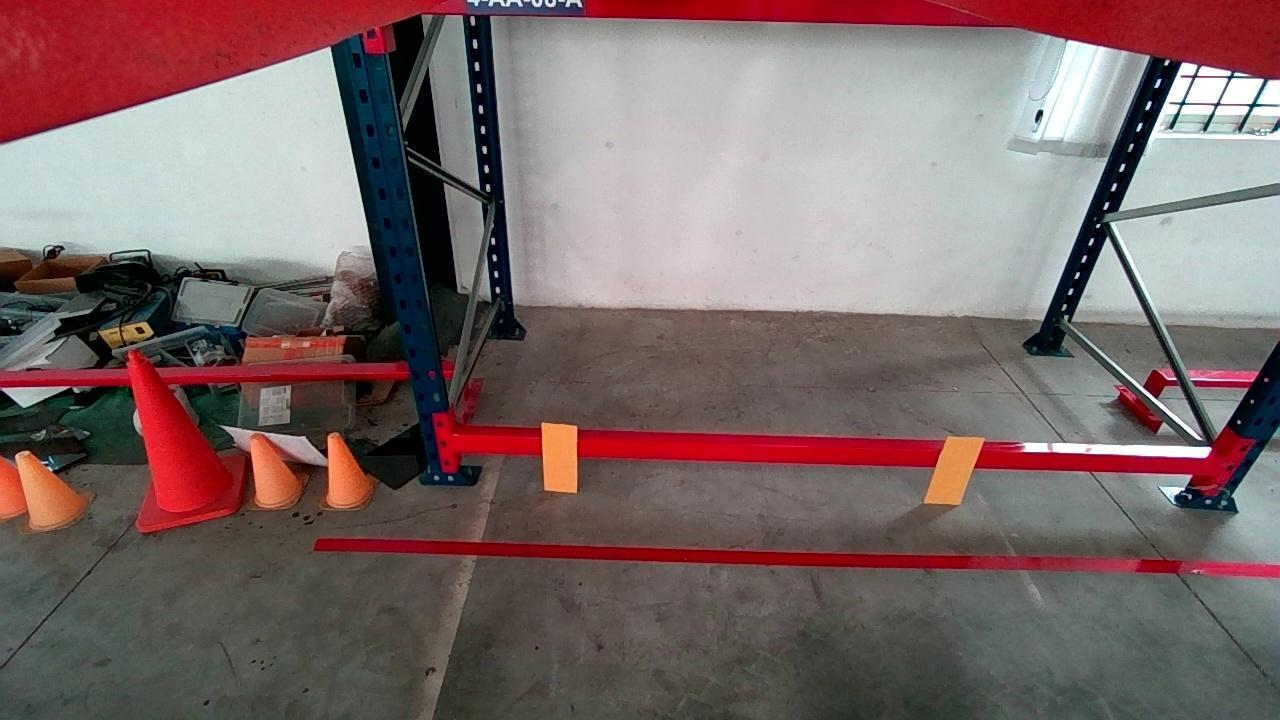h_rack: (455, 434, 1225, 476)
orange_strip: (922, 436, 987, 505), (542, 423, 581, 490)
red_line: (314, 536, 1280, 577)
